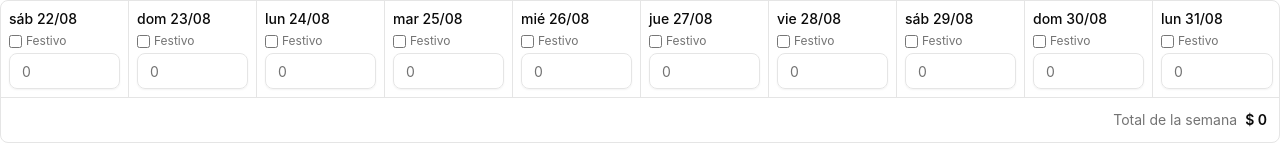
Test: WeekGrid › suma el total en vivo con los días que tienen valor
Step 1. Type "150.000" into the field labelled "sáb 22/08" → (64, 71), box [9,53,120,89]
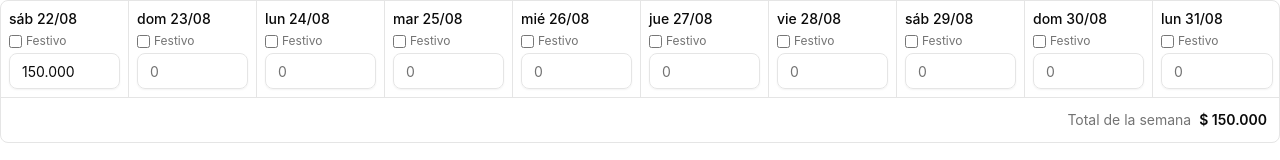
Step 2. Type "100.000,50" into the field labelled "dom 23/08" → (192, 71), box [137,53,248,89]
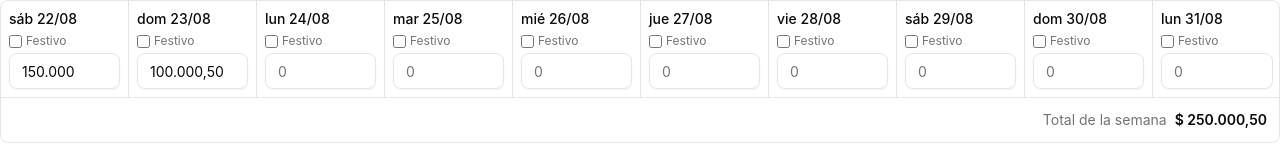
Check: the text with test id "week-total" shows "250.000,50", box [1175,111,1267,128]
